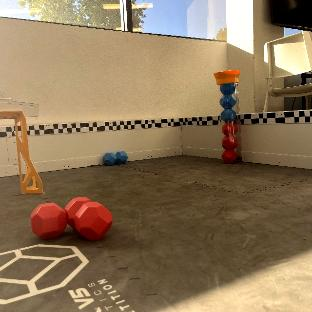V5_BLUE: (220, 82, 236, 121), (103, 152, 127, 166)
V5_RED: (30, 197, 112, 240), (222, 136, 237, 161)
